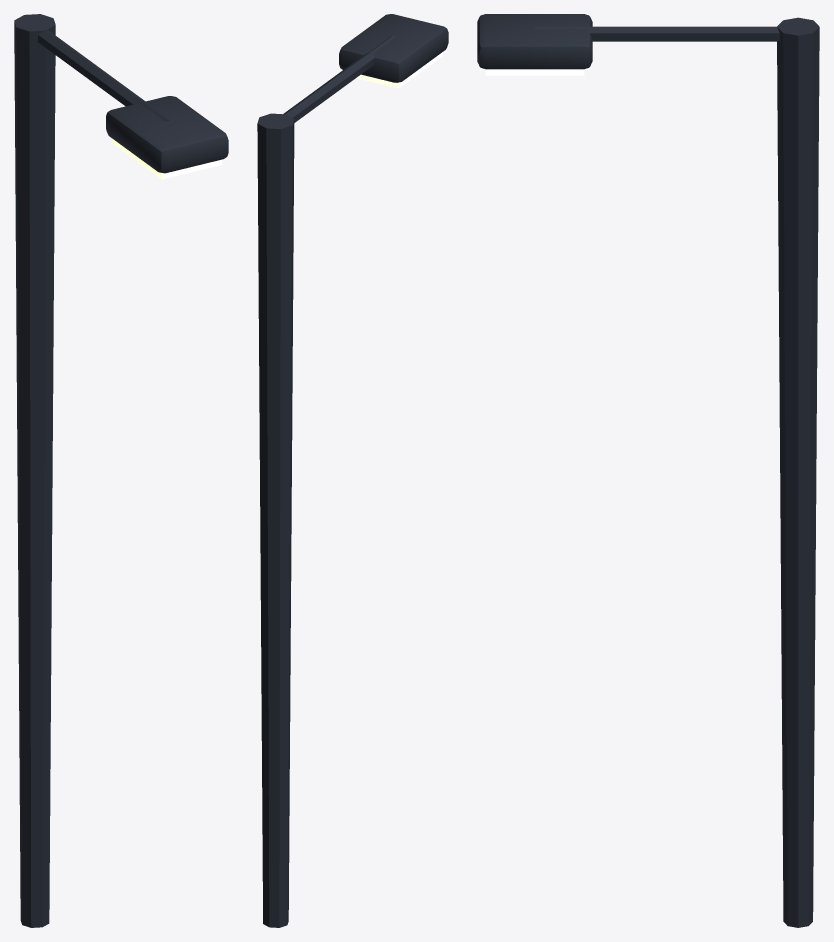
The model's file is journey_streetlamp.glb.
3 views of the same model, side by side, from view 1: azimuth 30°, elevation 25°; view 2: azimuth 150°, elevation 25°; view 3: azimuth 270°, elevation 25° (orthographic). The views are drawn at different scales.
Parts seen in each view (by area): view 1: Lamp_body; view 2: Lamp_body; view 3: Lamp_body.
Part boxes in pixels (x1,y1,x2,y2): Lamp_body: (14, 14, 228, 927); Lamp_body: (257, 14, 448, 927); Lamp_body: (477, 14, 819, 927).
Size of the model in its own units: 0.5 by 6 by 2.08.
